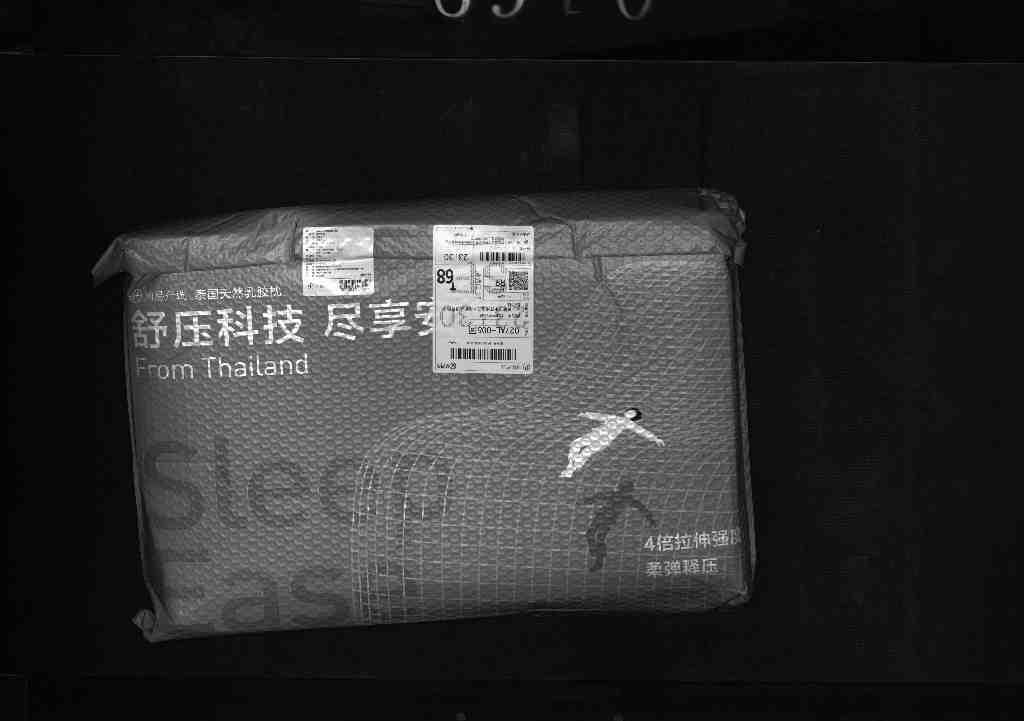box: (96, 186, 758, 636)
